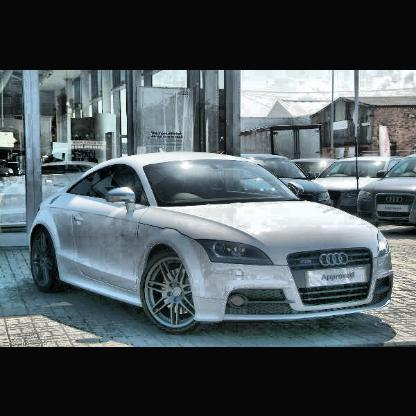Audi TTS Coupe 2012: (28, 151, 395, 330)
